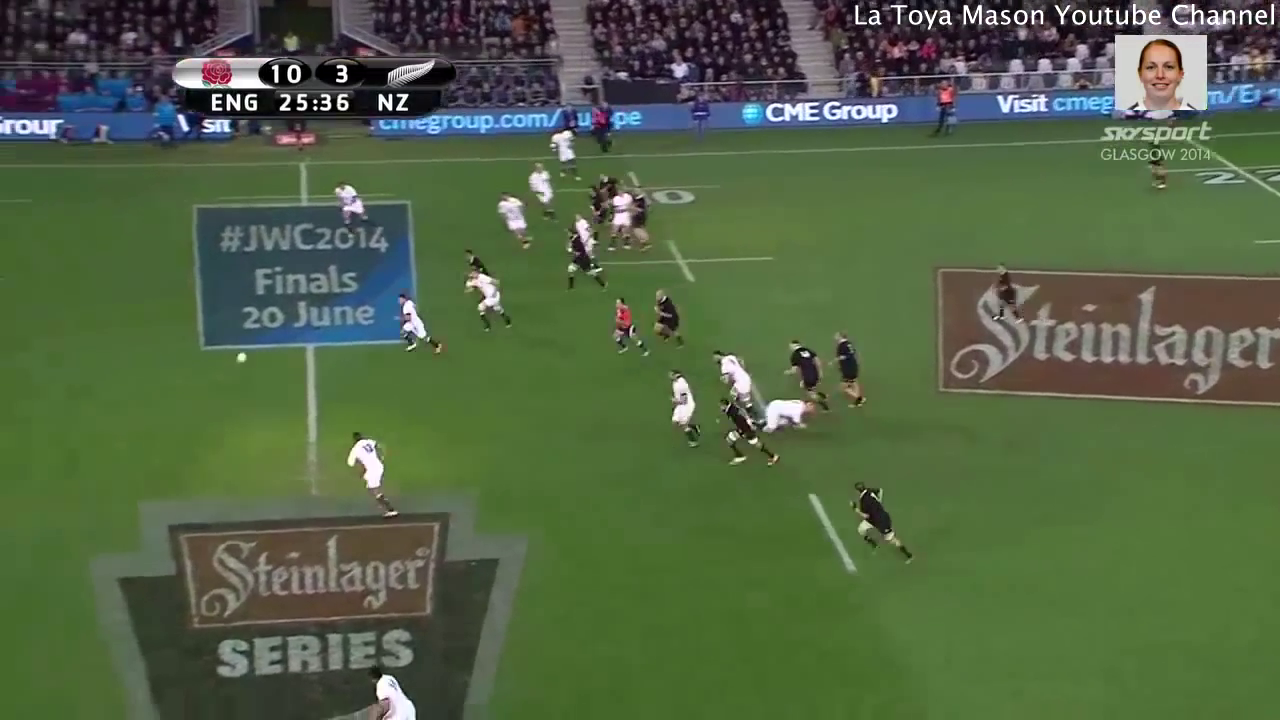10_metre: (582, 232, 780, 293)
ball: (226, 349, 254, 375)
player: (840, 476, 928, 569), (333, 423, 411, 527), (701, 386, 785, 479), (315, 175, 390, 245), (968, 252, 1037, 328), (350, 655, 426, 720), (650, 362, 705, 451), (824, 328, 877, 418), (389, 286, 449, 364), (774, 332, 828, 399), (638, 283, 692, 349), (748, 392, 827, 435), (559, 225, 609, 290), (523, 160, 566, 227), (469, 265, 512, 330), (605, 294, 647, 358), (544, 125, 586, 183), (491, 192, 531, 252), (707, 346, 755, 393), (605, 187, 636, 252), (633, 187, 653, 255), (584, 173, 612, 221), (575, 212, 598, 255), (459, 245, 491, 274)
